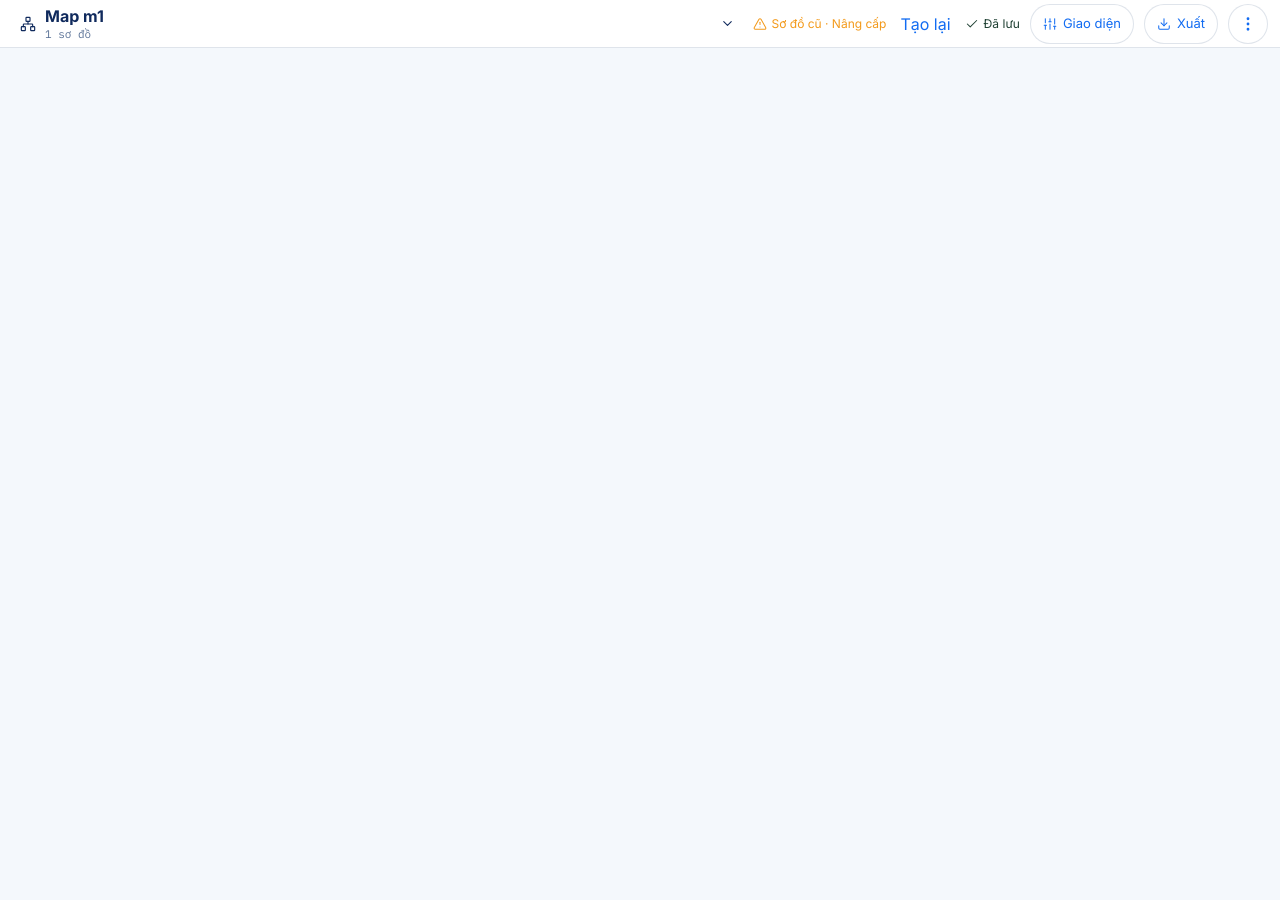
it: Export Studio — PDF orientation control reflects the real auto-orientation contract › mode="map_and_outline": same auto-orientation note, no editable toggle
The width and height of the screenshot is (1280, 900).
Step 1. Click the button with aria-label "Xuất sơ đồ" → (1181, 24), box [1144, 4, 1218, 44]
(page scrolled)
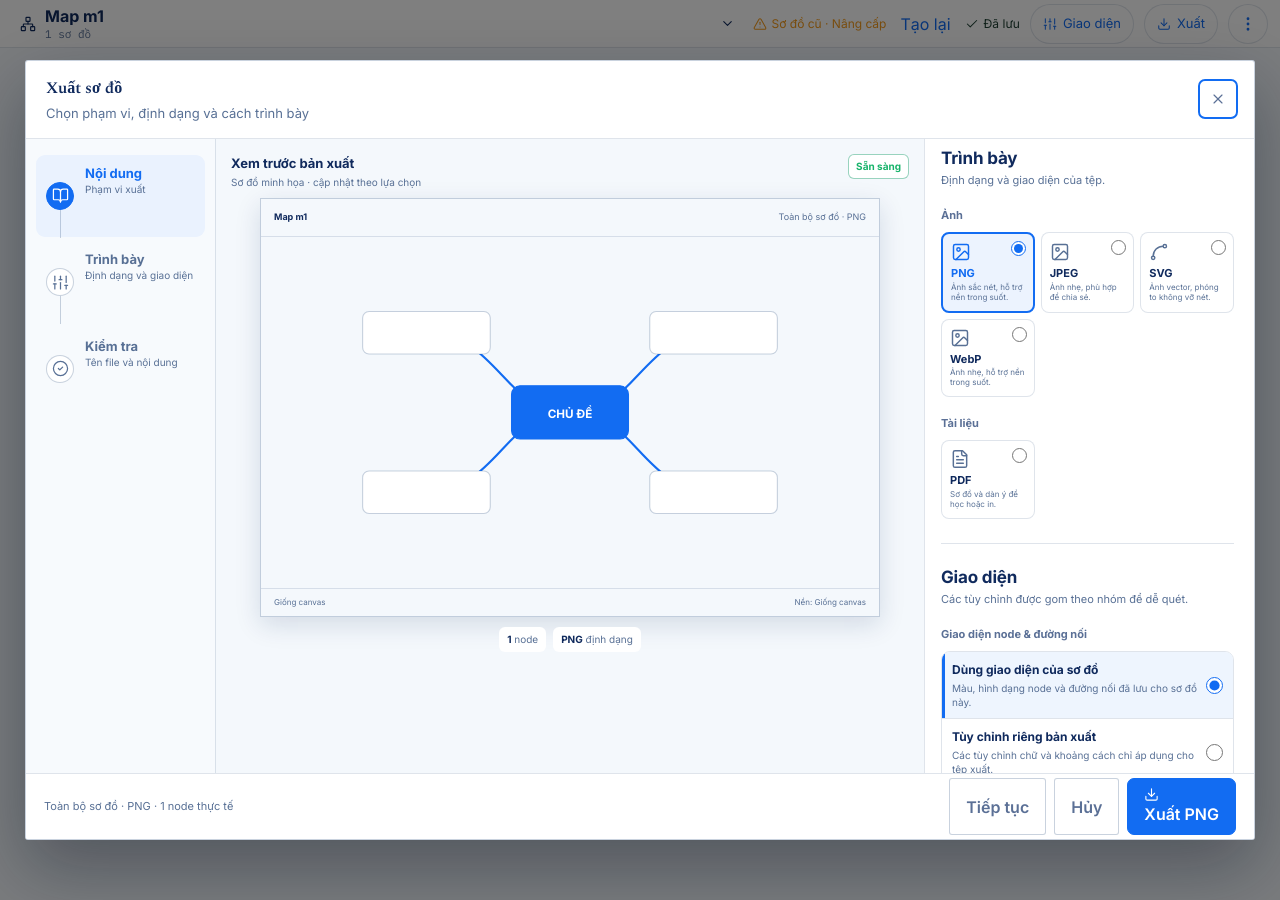
Step 2. Click the radio button named "mm-export-format" → (1019, 456), box [1012, 448, 1027, 463]
(page scrolled)
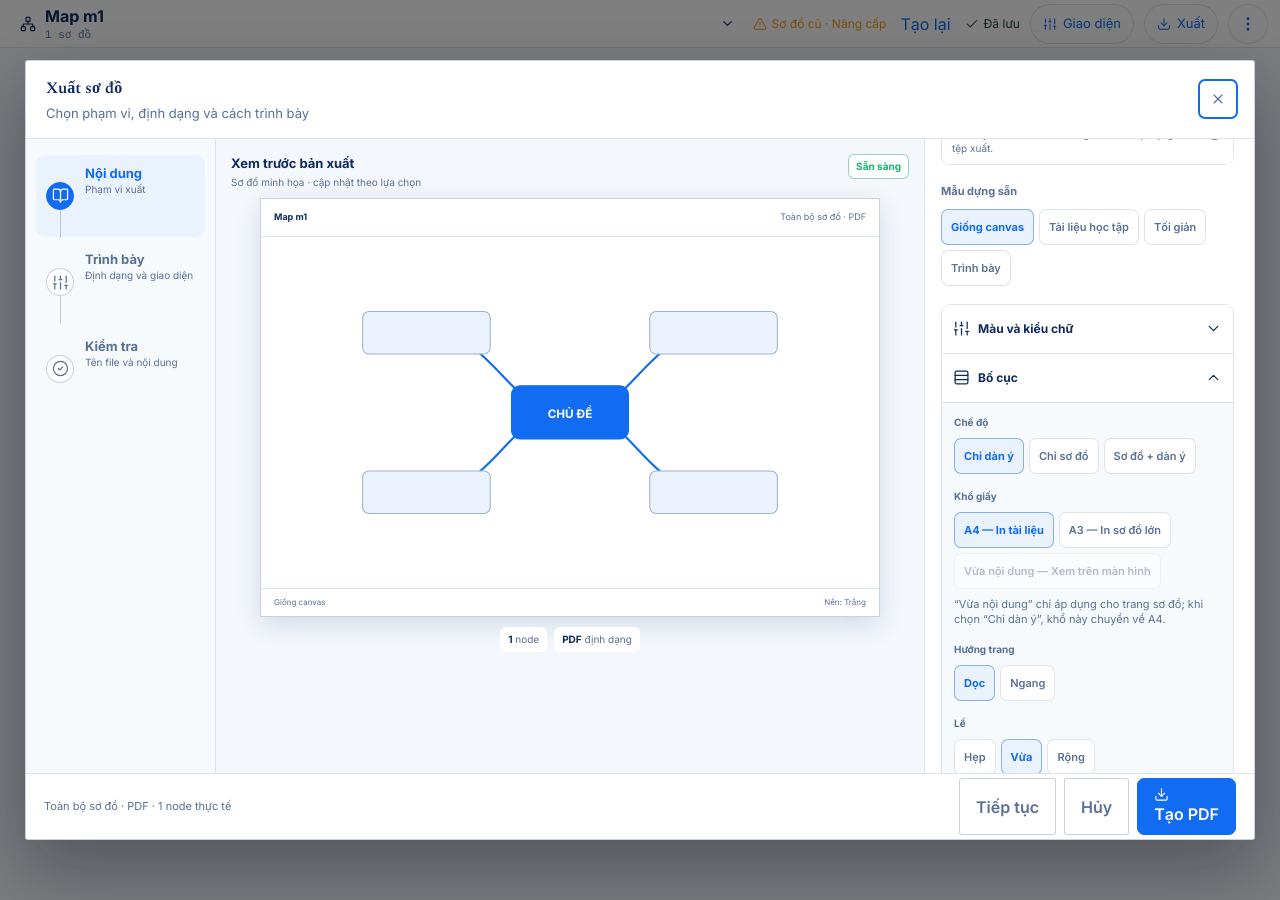
Check: the button "Sơ đồ + dàn ý" is shown
Step 3. Click the button "Sơ đồ + dàn ý" → (1150, 456), box [1104, 438, 1196, 474]
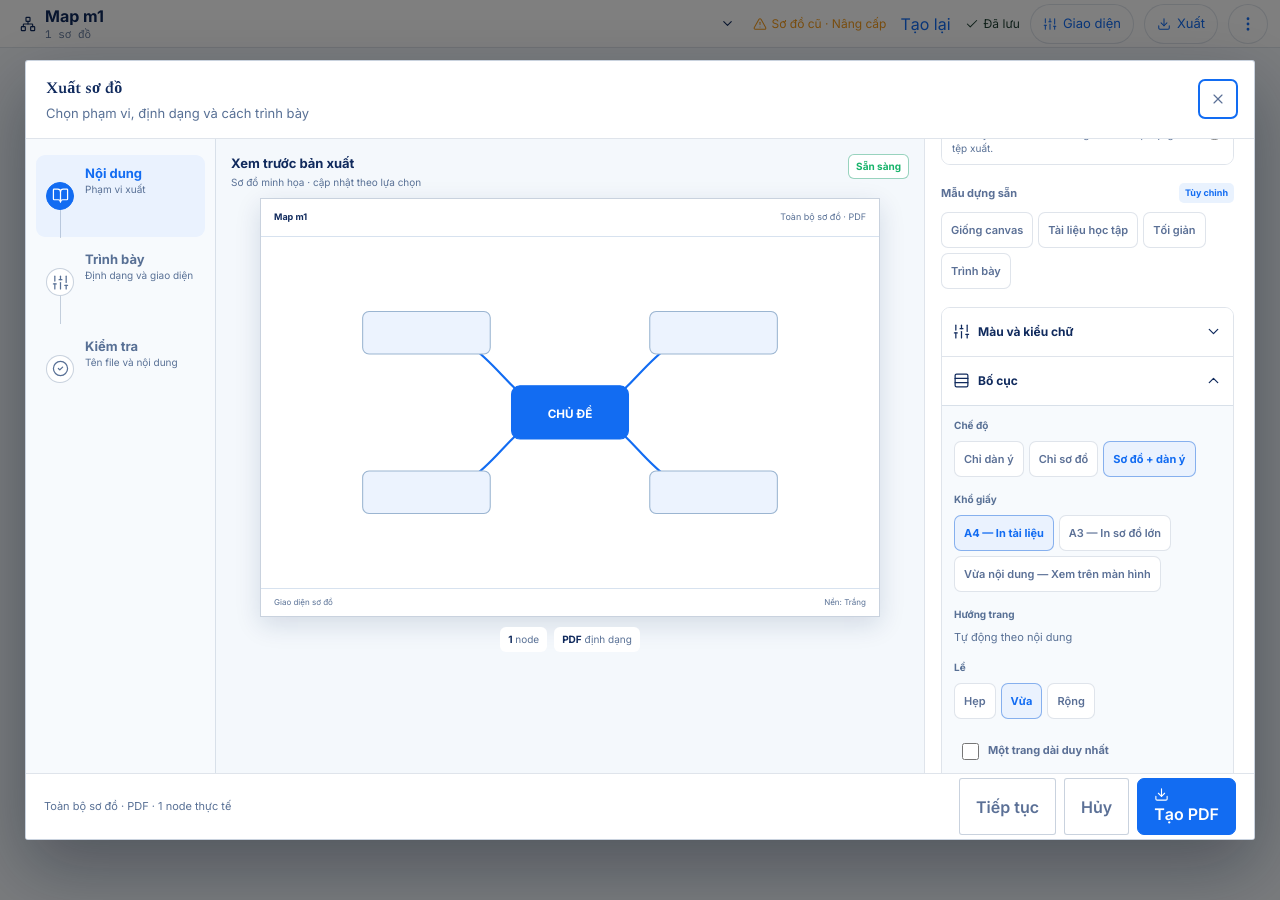
Check: the element with class "export-control__label" shows "Tự động theo nội dung", box [954, 630, 1072, 644]
Check: the button "Dọc" is gone
